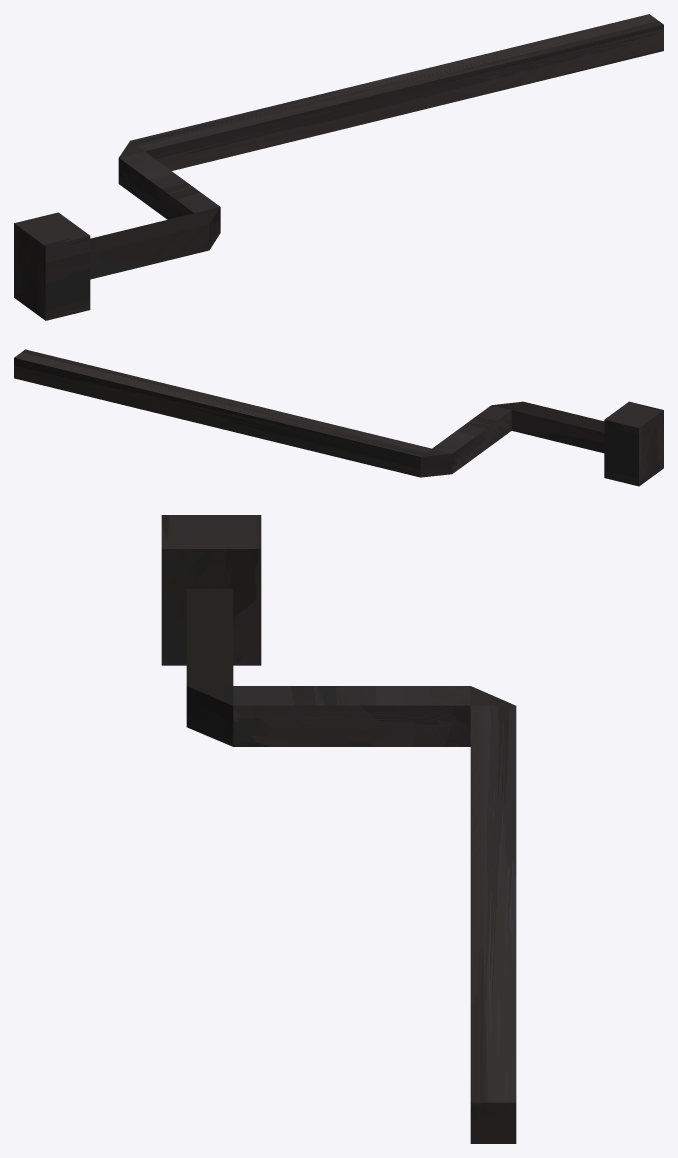
File: M-SocketUnplugged.fbx
The picture shows the model from 3 angles, top to bottom: view 1: azimuth 30°, elevation 25°; view 2: azimuth 150°, elevation 25°; view 3: azimuth 270°, elevation 25°; orthographic projection. The views are drawn at different scales.
Visible parts, largest first — view 1: Cube.001; view 2: Cube.001; view 3: Cube.001.
Boxes of the visible parts, box(x1,y1,x2,y2) form: Cube.001: box(14, 14, 663, 320); Cube.001: box(14, 349, 663, 486); Cube.001: box(161, 515, 516, 1143).
Bounding box in the file's own units: 57.88 × 15.82 × 5.74.
1 material, 1 textured.
